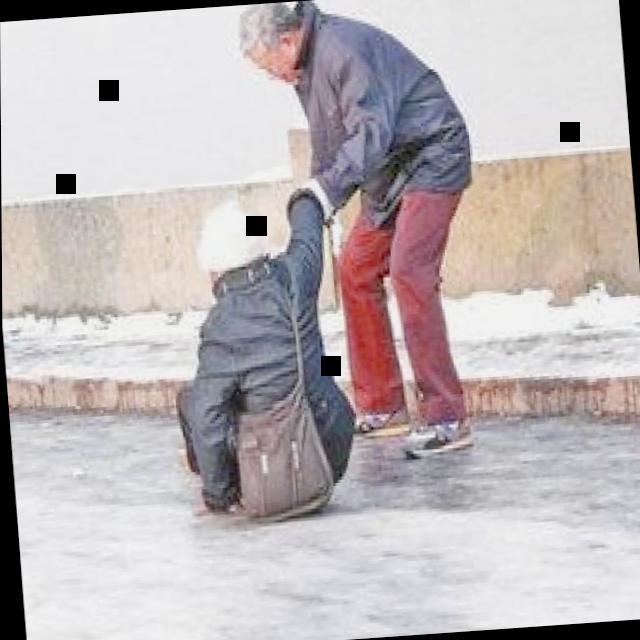Fall-Detected: (146, 167, 370, 529)
